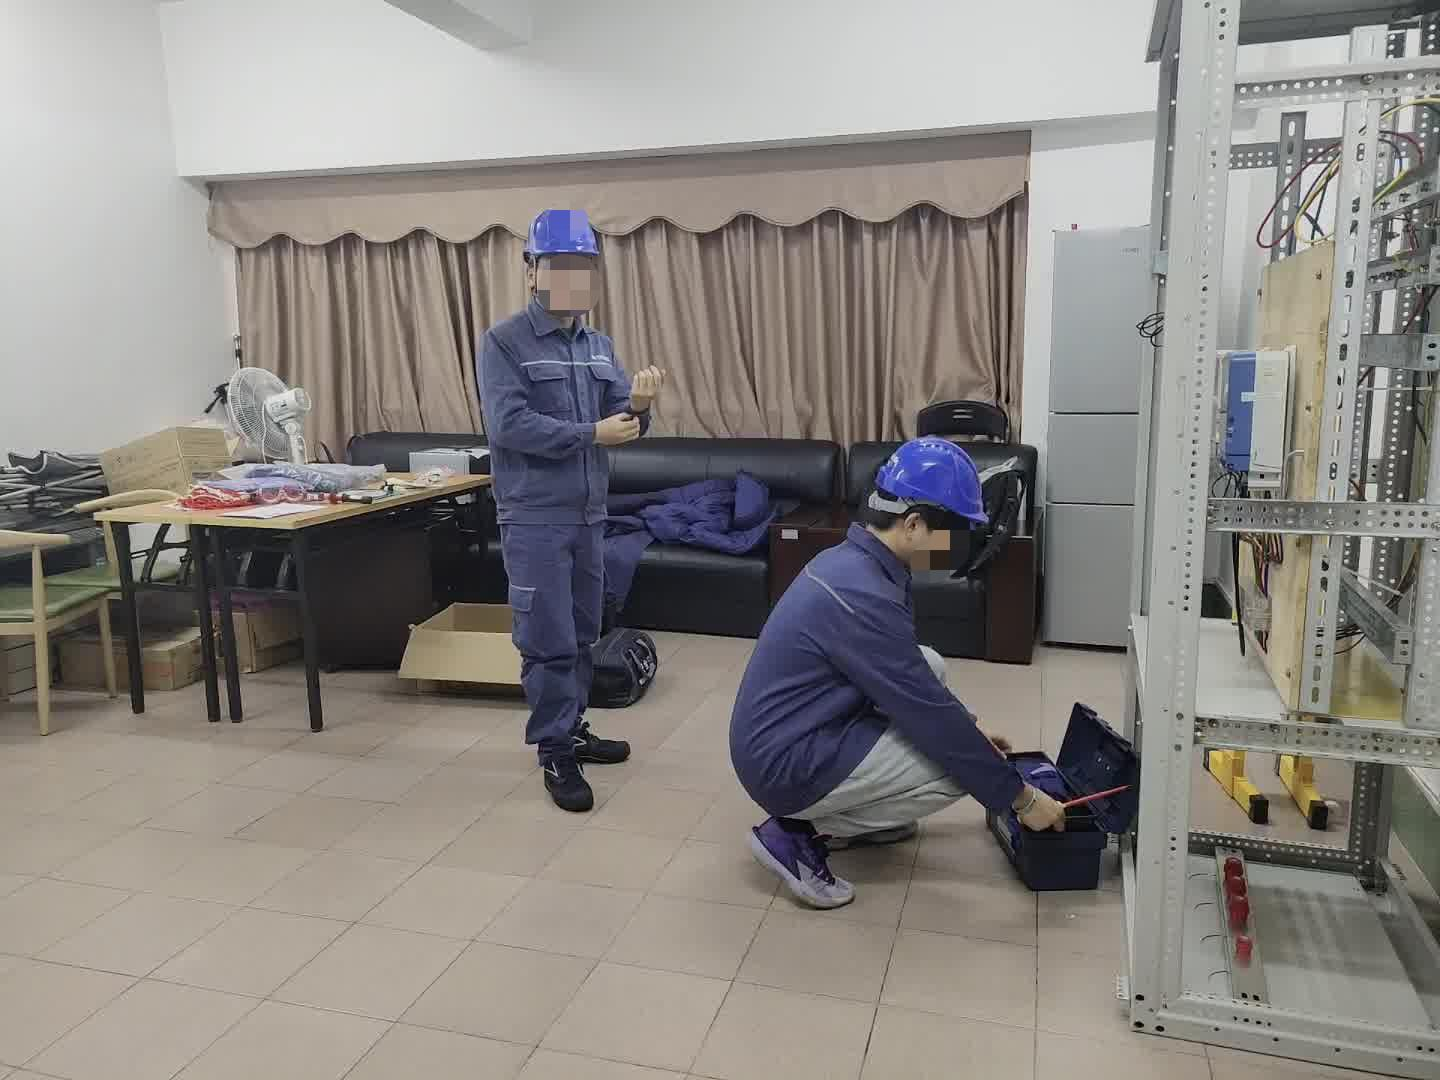halt: (874, 437, 993, 576), (523, 206, 608, 318)
noear: (897, 512, 930, 563)
